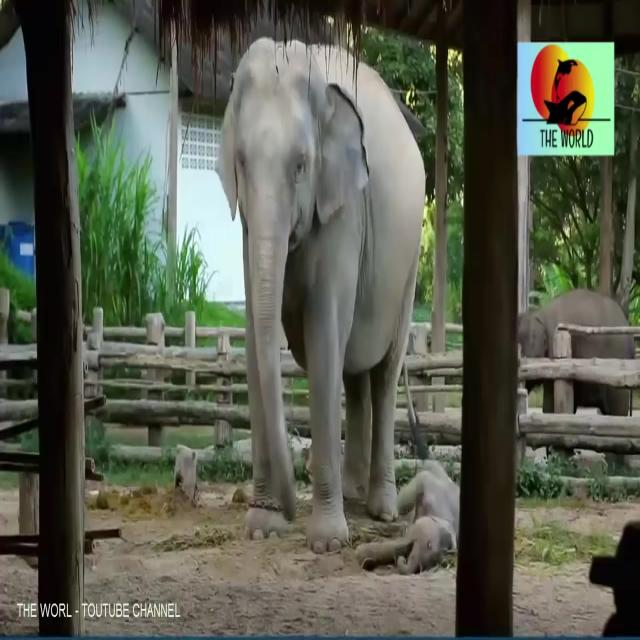Elephant: (222, 43, 404, 476), (526, 290, 630, 402), (386, 474, 461, 570)
